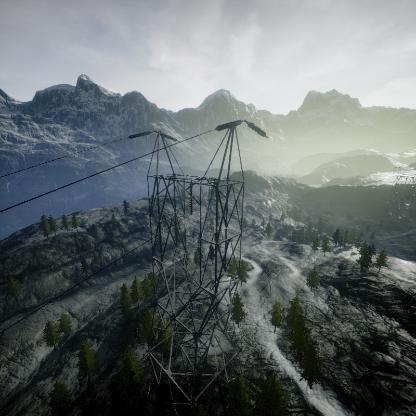tower: (129, 118, 271, 416)
